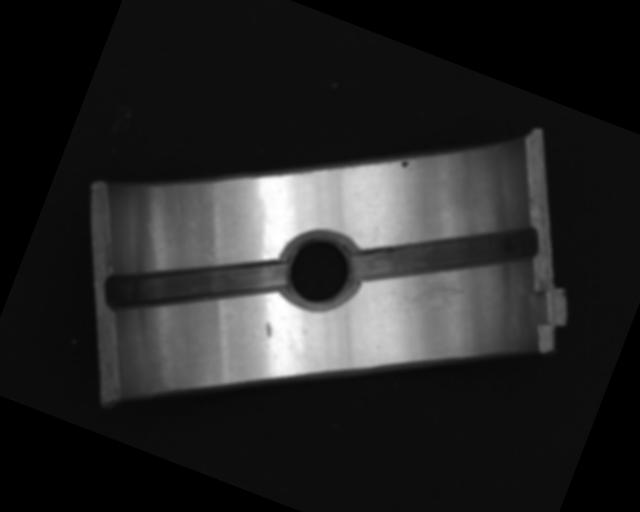blot: (398, 157, 412, 170)
bruise: (260, 320, 275, 339)
gap: (98, 207, 291, 364), (349, 177, 540, 334)
hole: (270, 222, 368, 325)
scratch: (394, 247, 485, 338)
